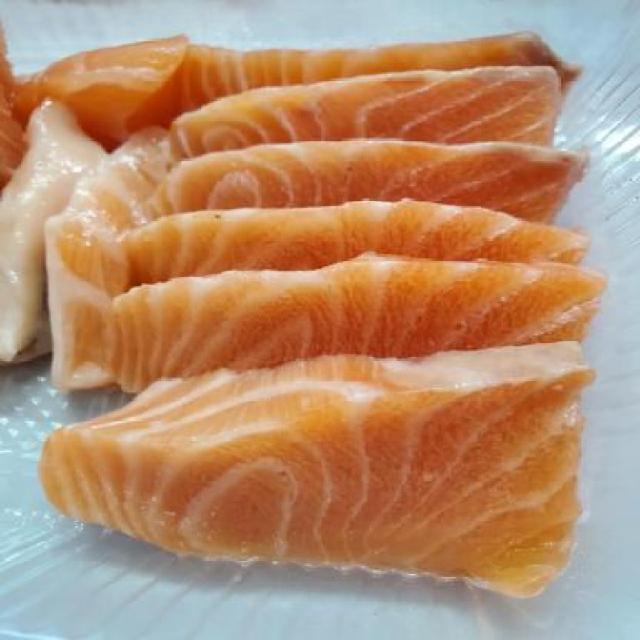salmon: (3, 34, 590, 601)
